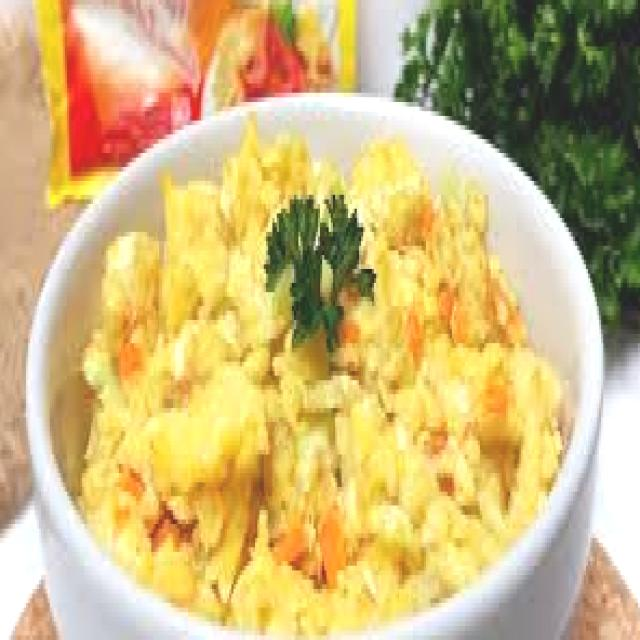telur_orak_arik: (89, 145, 547, 623)
